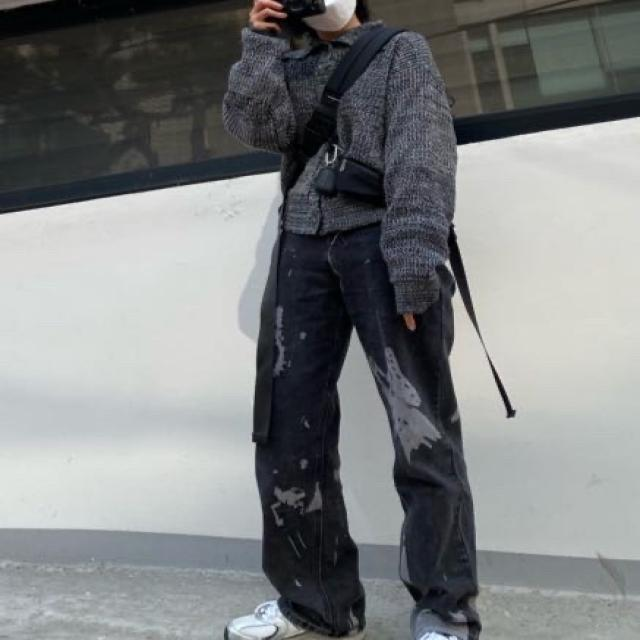denimpants: (252, 213, 482, 640)
sweater: (226, 20, 454, 311)
